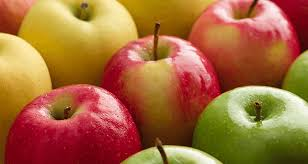apple: (101, 34, 224, 140), (17, 80, 136, 164), (21, 3, 143, 82), (199, 80, 307, 162), (198, 5, 299, 89)
